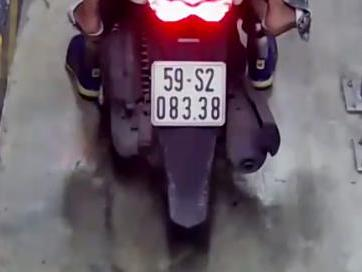num_plate: (150, 60, 227, 128)
